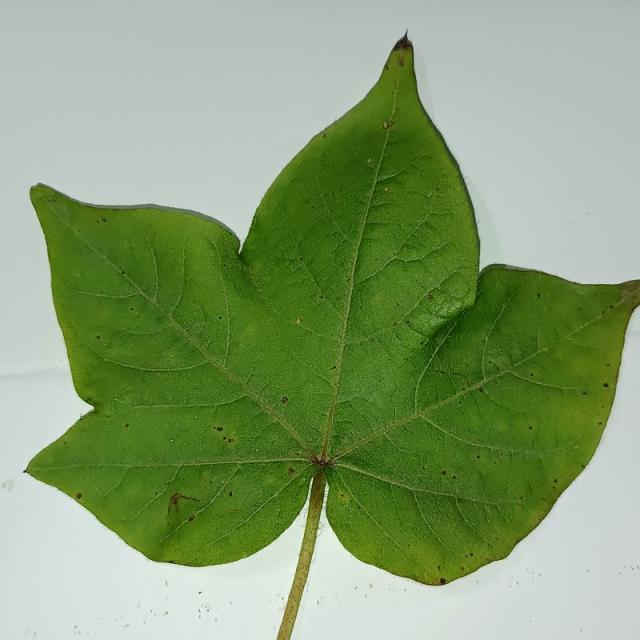Bacterial_Blight: (276, 392, 295, 408), (438, 470, 449, 477), (287, 468, 296, 476), (397, 58, 405, 67), (333, 378, 340, 388), (188, 515, 195, 522), (344, 276, 350, 284), (164, 481, 172, 487), (393, 80, 398, 89), (603, 382, 610, 388), (216, 426, 223, 432), (440, 578, 446, 585), (76, 492, 82, 499), (295, 318, 301, 325), (392, 321, 398, 327), (101, 217, 107, 223), (366, 158, 372, 164), (85, 397, 91, 403), (383, 64, 388, 71), (22, 469, 29, 474), (478, 387, 484, 392), (228, 438, 234, 443), (331, 365, 337, 370), (228, 491, 233, 497), (428, 294, 433, 300), (370, 337, 375, 343), (383, 122, 388, 128), (553, 478, 558, 483), (469, 552, 474, 557), (452, 475, 457, 480), (319, 294, 324, 299), (124, 423, 129, 428), (121, 270, 126, 275), (340, 493, 345, 498), (213, 426, 218, 431), (322, 133, 327, 138), (435, 187, 440, 192), (384, 187, 389, 192), (390, 120, 395, 125), (73, 625, 78, 630), (528, 425, 532, 430), (96, 335, 100, 340), (537, 293, 541, 298), (582, 391, 587, 395), (422, 466, 426, 471), (461, 387, 466, 391), (223, 437, 227, 442), (598, 421, 603, 425), (218, 315, 222, 320), (609, 305, 614, 309), (437, 565, 441, 570), (519, 496, 524, 500), (581, 463, 585, 468), (461, 566, 465, 571), (574, 445, 579, 449), (476, 455, 480, 459), (529, 372, 533, 376), (602, 310, 606, 314), (406, 319, 410, 323), (130, 307, 134, 311), (63, 441, 67, 445), (255, 448, 259, 452)
Cotton: (26, 36, 639, 639)
